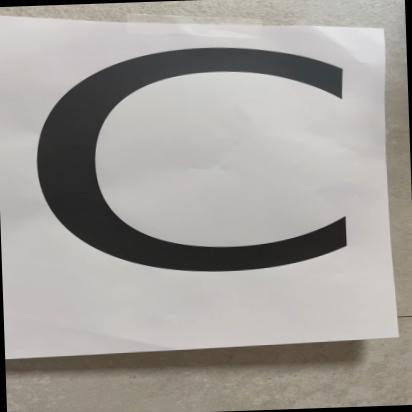seat: (0, 0, 412, 385)
